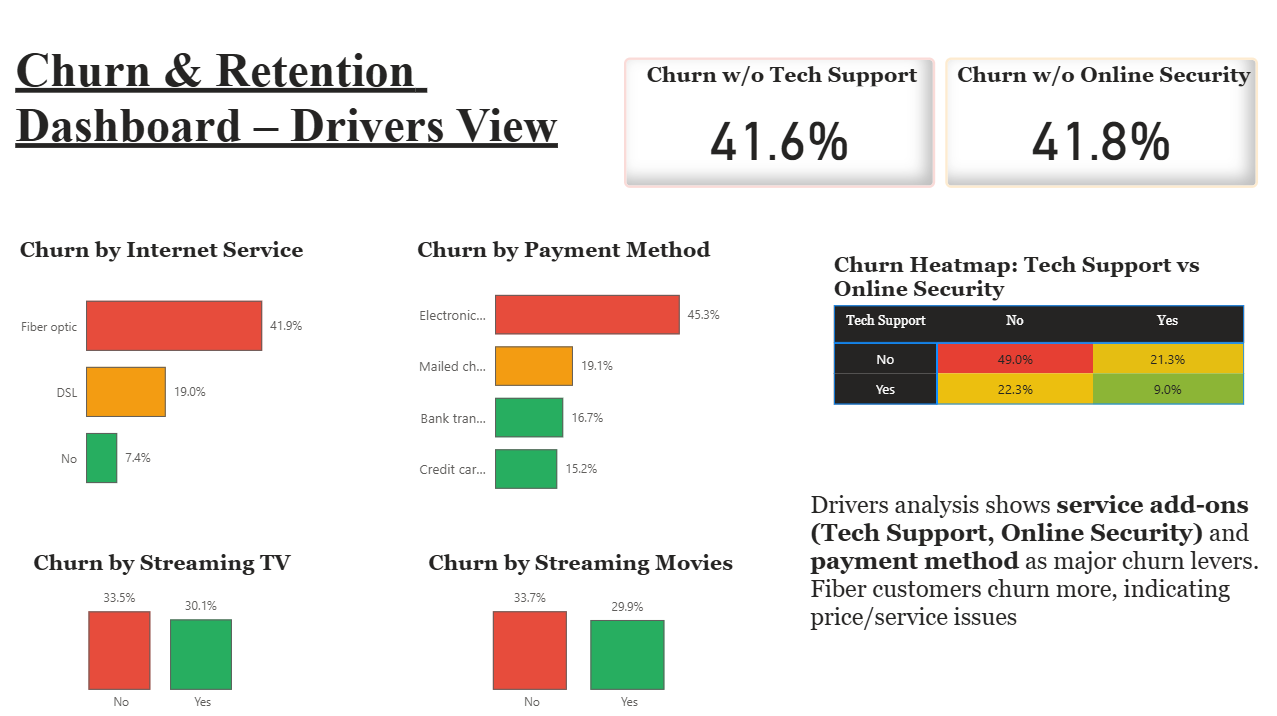

What the dashboard file says about the page in this screenshot:
{"tool":"powerbi","page":{"name":"Drivers","canvas":[1280,720],"ordinal":1},"visuals":[{"type":"clusteredBarChart","title":"Churn by Internet Service","fields":{"Category":["ibm_telco_scored.internet_service"],"Y":["ibm_telco_scored.Churn Rate"]},"box":[11.2,237.5,302.5,280],"z":0},{"type":"barChart","title":"Churn by Payment Method","fields":{"Y":["ibm_telco_scored.Churn Rate"],"Category":["ibm_telco_scored.payment_method"]},"box":[401.2,237.5,327.5,278.8],"z":1000},{"type":"pivotTable","title":"Churn Heatmap: Tech Support vs Online Security","fields":{"Rows":["ibm_telco_scored.tech_support"],"Columns":["ibm_telco_scored.online_security"],"Values":["ibm_telco_scored.Churn Rate"]},"box":[830,252.5,428.8,171.2],"z":2000},{"type":"card","title":"Churn w/o Tech Support","fields":{"Values":["ibm_telco_scored.Churn No Tech Support"]},"box":[625,57.5,311.2,130],"z":3000},{"type":"card","title":"Churn w/o Online Security","fields":{"Values":["ibm_telco_scored.Churn No Online Security"]},"box":[946.2,57.5,312.5,130],"z":4000},{"type":"clusteredColumnChart","title":"Churn by Streaming TV","fields":{"Y":["ibm_telco_scored.Churn Rate"],"Category":["ibm_telco_scored.streaming_tv"]},"box":[11.2,551.2,303.8,168.8],"z":5000},{"type":"clusteredColumnChart","title":"Churn by Streaming Movies","fields":{"Y":["ibm_telco_scored.Churn Rate"],"Category":["ibm_telco_scored.streaming_movies"]},"box":[401.2,551.2,361.2,168.8],"z":6000},{"type":"textbox","box":[806.2,486.2,473.8,187.5],"z":7000},{"type":"textbox","box":[11.2,37.5,586.2,150],"z":8000}]}

Visuals, with their boxes in screenshot pixels (x1, y1, x2, y2), scaled from the page's 1280x720 canvas onto the 1277x716 screenshot:
"Churn by Internet Service" clusteredBarChart: bbox=(11, 236, 313, 515)
"Churn by Payment Method" barChart: bbox=(400, 236, 727, 513)
"Churn Heatmap: Tech Support vs Online Security" pivotTable: bbox=(828, 251, 1256, 421)
"Churn w/o Tech Support" card: bbox=(624, 57, 934, 186)
"Churn w/o Online Security" card: bbox=(944, 57, 1256, 186)
"Churn by Streaming TV" clusteredColumnChart: bbox=(11, 548, 314, 715)
"Churn by Streaming Movies" clusteredColumnChart: bbox=(400, 548, 761, 715)
textbox: bbox=(804, 483, 1276, 670)
textbox: bbox=(11, 37, 596, 186)
